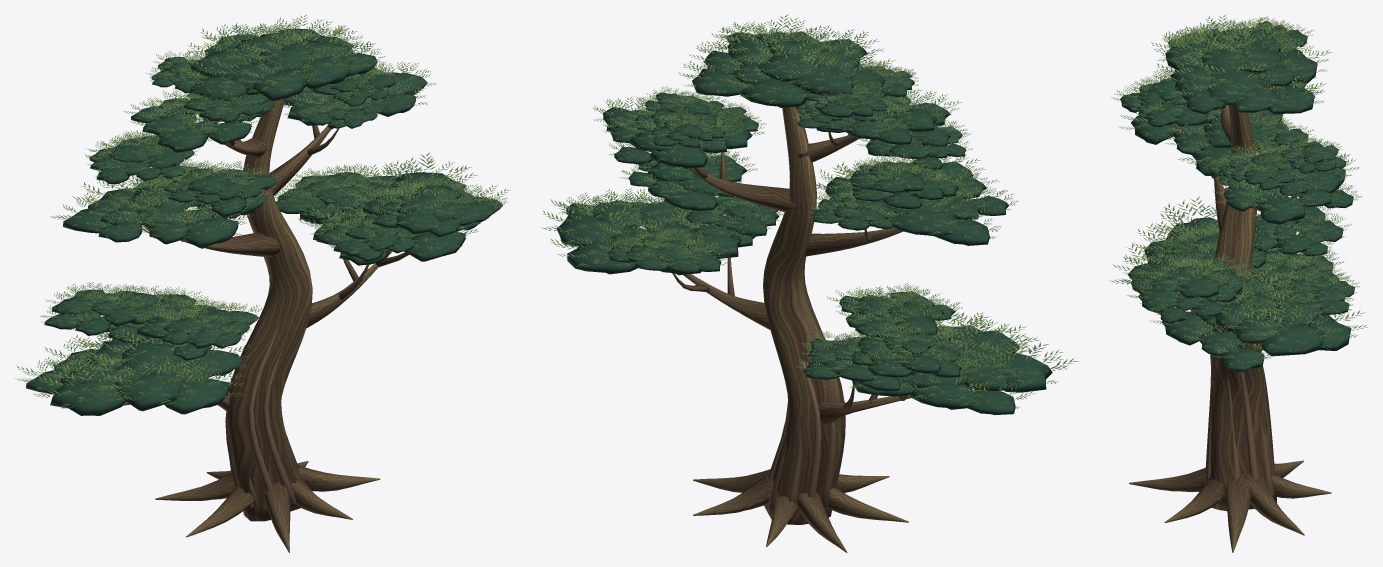
3 renders of one model, left to right at view 1: azimuth 30°, elevation 25°; view 2: azimuth 150°, elevation 25°; view 3: azimuth 270°, elevation 25°, orthographic.
Visible parts, largest first — view 1: Crown_mass, Outer_foliage, Weathered_bark, Sunlit_bark_ridges; view 2: Crown_mass, Outer_foliage, Weathered_bark, Sunlit_bark_ridges; view 3: Crown_mass, Outer_foliage, Weathered_bark, Sunlit_bark_ridges.
Part boxes in pixels (x1,y1,x2,y2): Crown_mass: (26,28,502,415); Outer_foliage: (15,14,510,408); Weathered_bark: (109,89,426,552); Sunlit_bark_ridges: (225,324,296,506); Crown_mass: (556,31,1052,415); Outer_foliage: (542,14,1078,409); Weathered_bark: (672,106,976,552); Sunlit_bark_ridges: (767,360,835,508); Crown_mass: (1120,21,1354,371); Outer_foliage: (1109,14,1367,369); Weathered_bark: (1129,86,1331,552); Sunlit_bark_ridges: (1205,370,1274,501).
Bounding box in the file's own units: 9.04 × 8.15 × 4.17.
4 materials, 1 textured.
